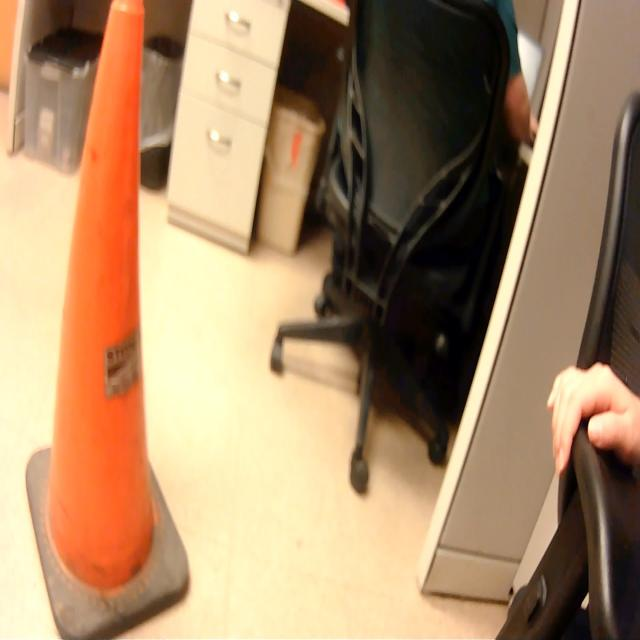traffic cone: (18, 1, 197, 640)
